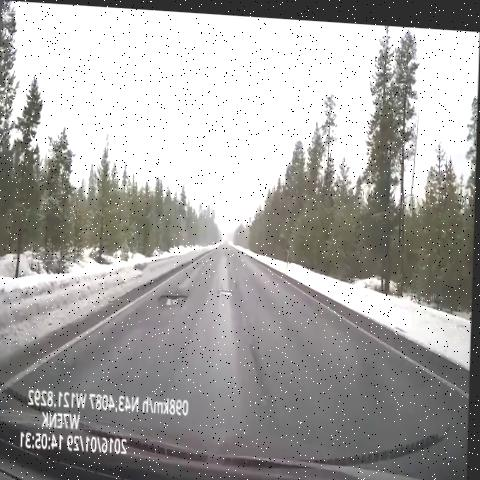pothole: (153, 280, 193, 312), (214, 275, 242, 305)
